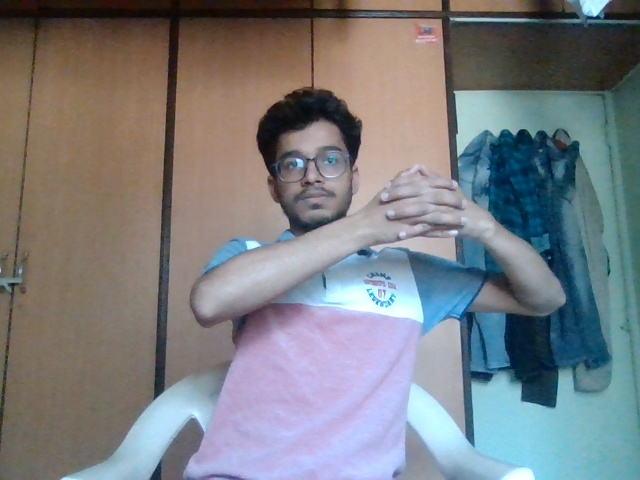good: (381, 154, 483, 258)
